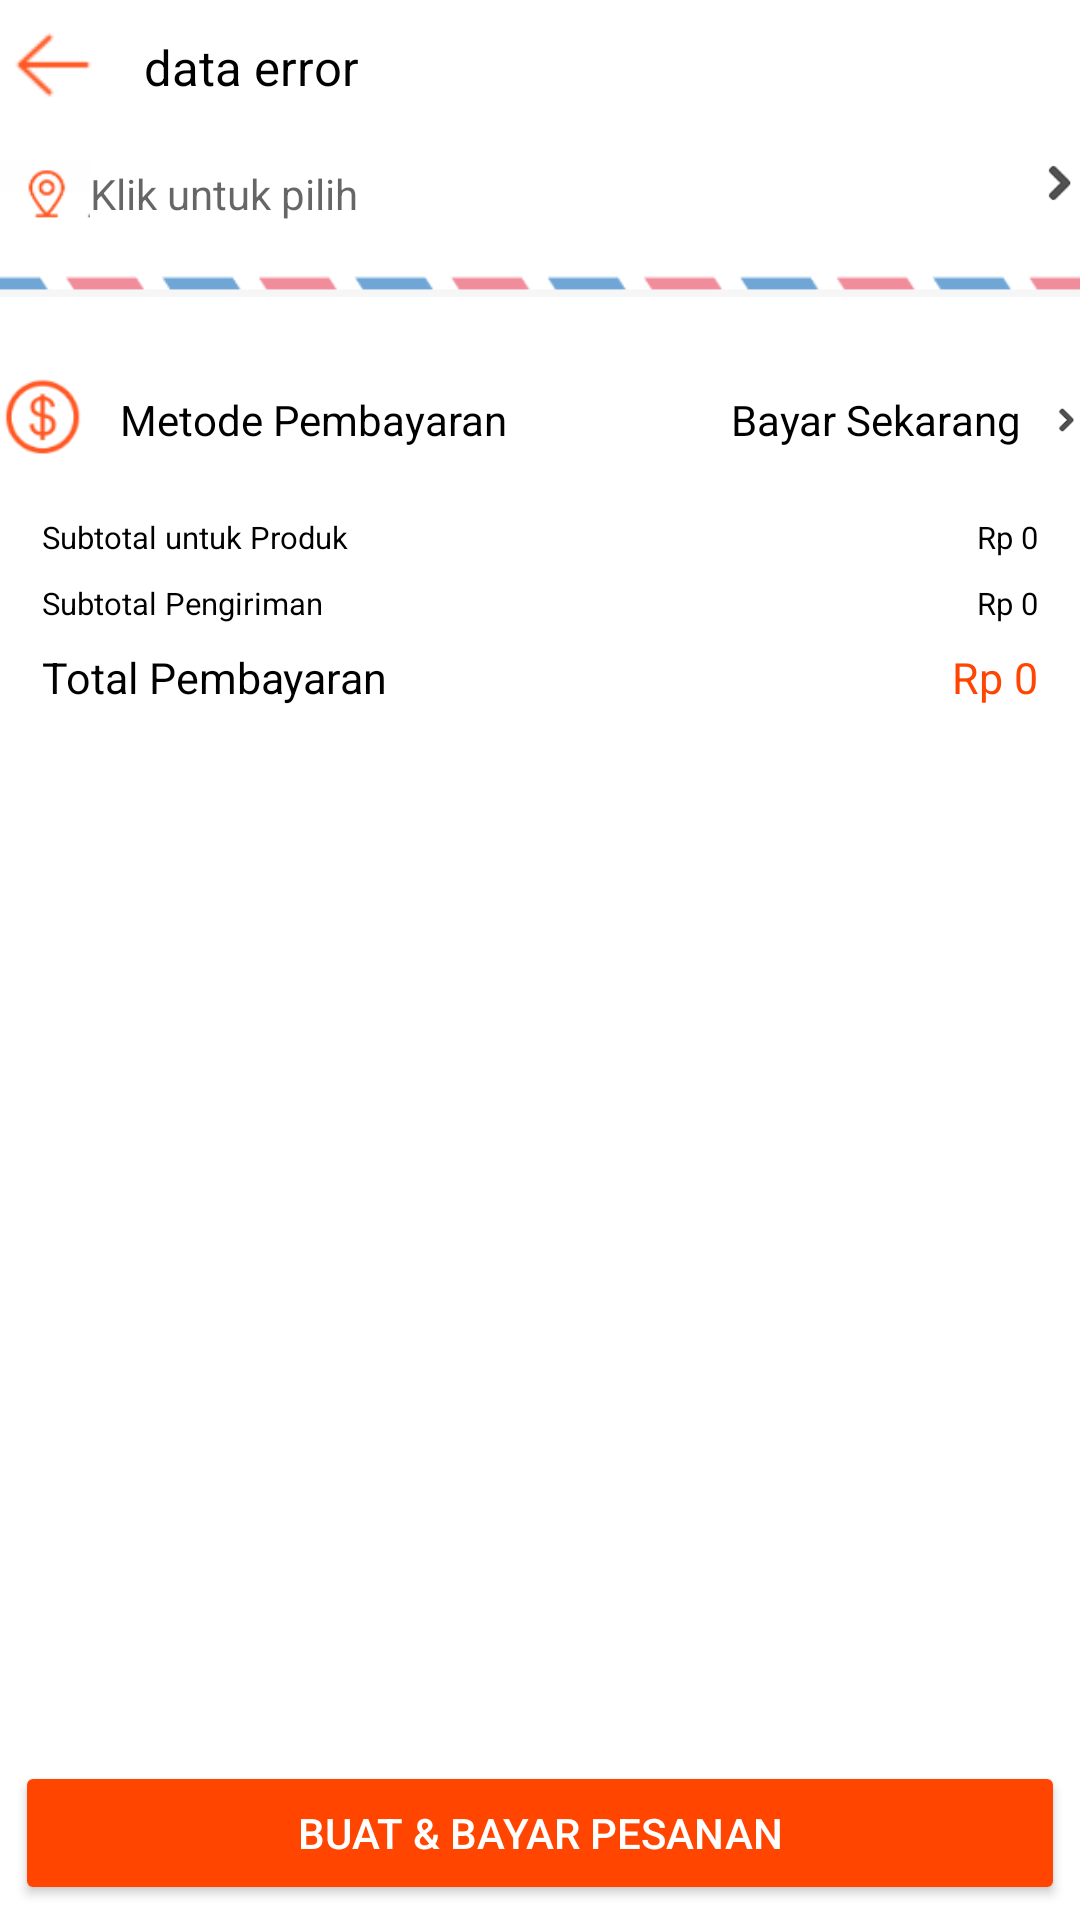

Point at icon controls on the screen. Image size 1080x1920, points as (x=x, y=y).
arrow: (x=1060, y=183), (x=1066, y=420)
backarrow: (x=53, y=65)
location: (x=59, y=194)
money: (x=42, y=416)
